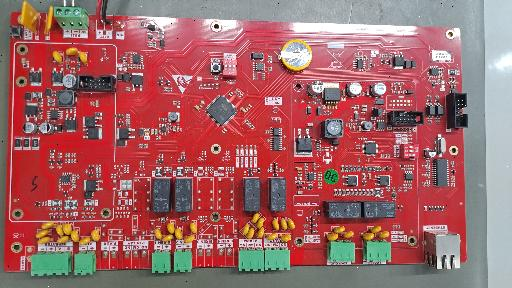var: (19, 0, 42, 35), (44, 6, 53, 36), (51, 50, 63, 65), (41, 221, 57, 230), (35, 230, 51, 238), (78, 52, 88, 64), (62, 223, 72, 235), (66, 47, 80, 55), (256, 217, 265, 229), (256, 226, 265, 238), (91, 229, 100, 241), (37, 237, 52, 244), (241, 224, 250, 235), (287, 218, 295, 230), (378, 231, 390, 239), (280, 218, 288, 230), (362, 232, 374, 240), (167, 222, 175, 234), (174, 228, 182, 240), (162, 234, 174, 242), (79, 237, 91, 245), (56, 224, 64, 236), (71, 230, 79, 242), (251, 213, 260, 223), (272, 219, 280, 230), (327, 233, 338, 241), (370, 225, 381, 233), (266, 233, 277, 241), (334, 226, 345, 234), (184, 235, 195, 243), (246, 228, 254, 239), (190, 222, 197, 234), (155, 228, 162, 240), (280, 234, 292, 241), (57, 236, 69, 243), (344, 231, 354, 238)
